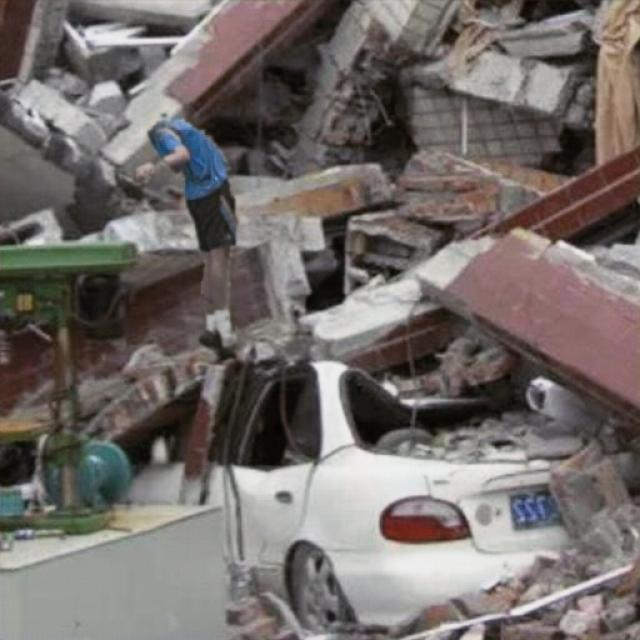Person in Rubble: (136, 114, 235, 358)
